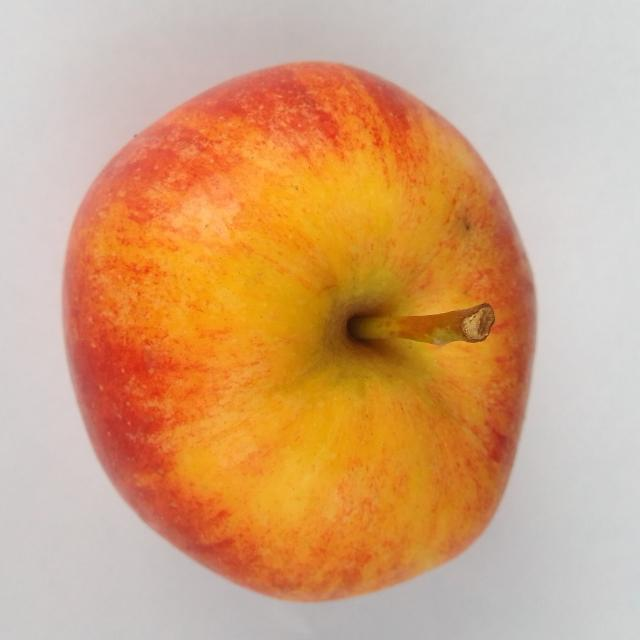Fresh Apple: (53, 52, 545, 608)
